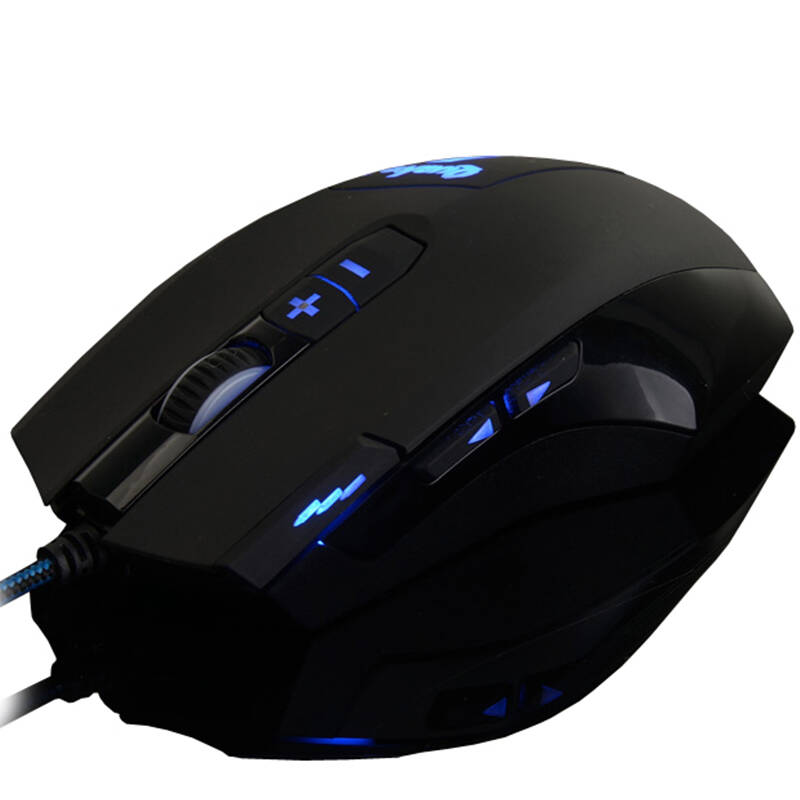mouse: (16, 155, 794, 596)
